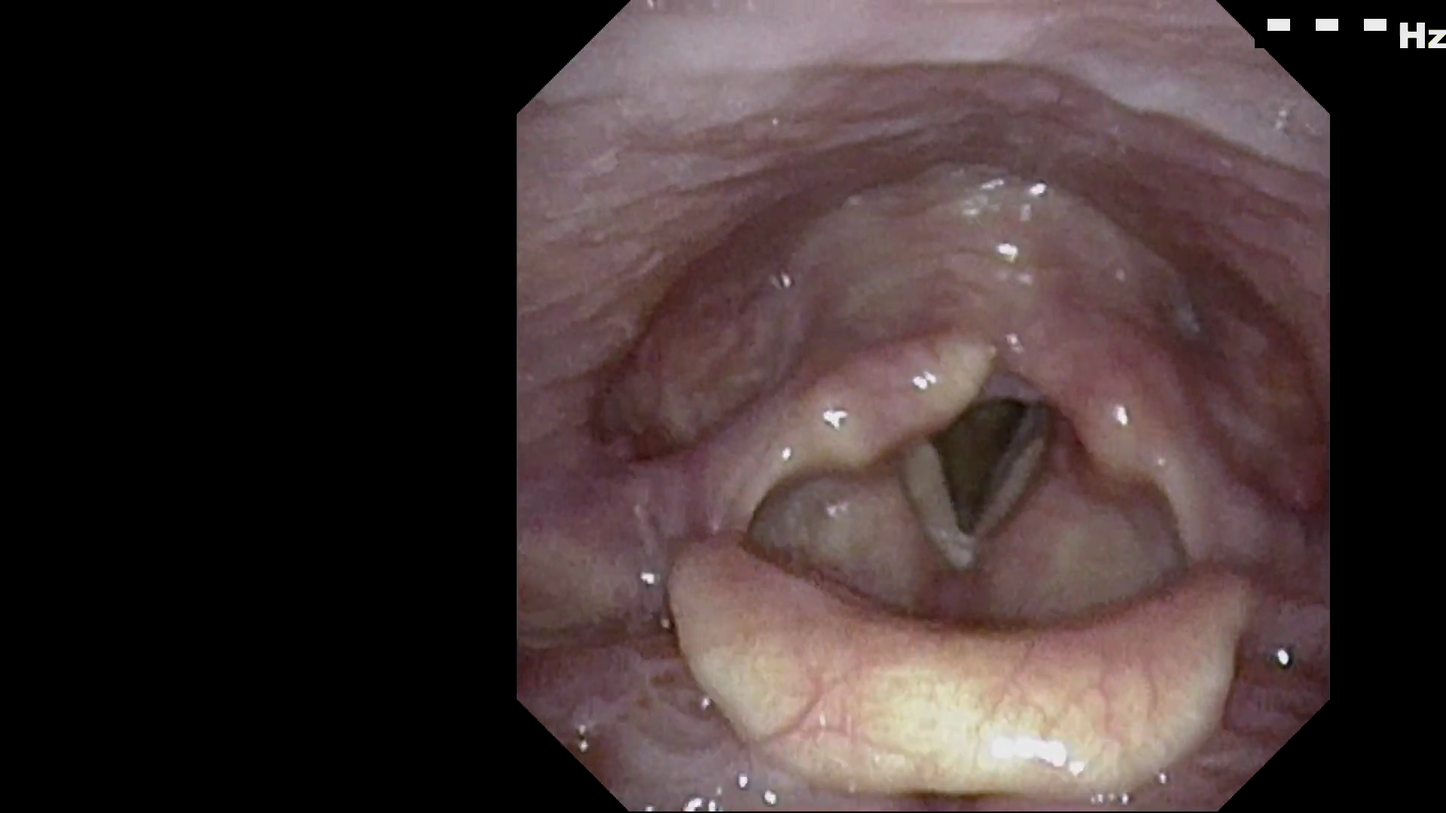epiglottis: (670, 557, 1246, 764)
trachea: (900, 379, 1066, 552)
